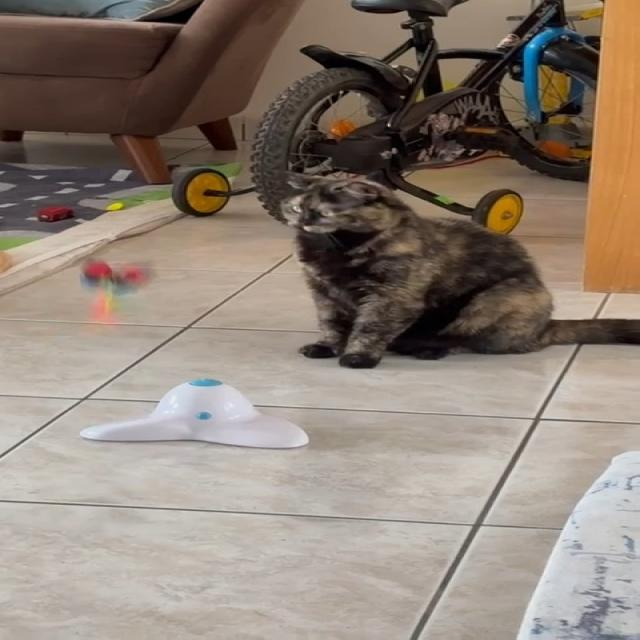authorized: (276, 168, 639, 369)
